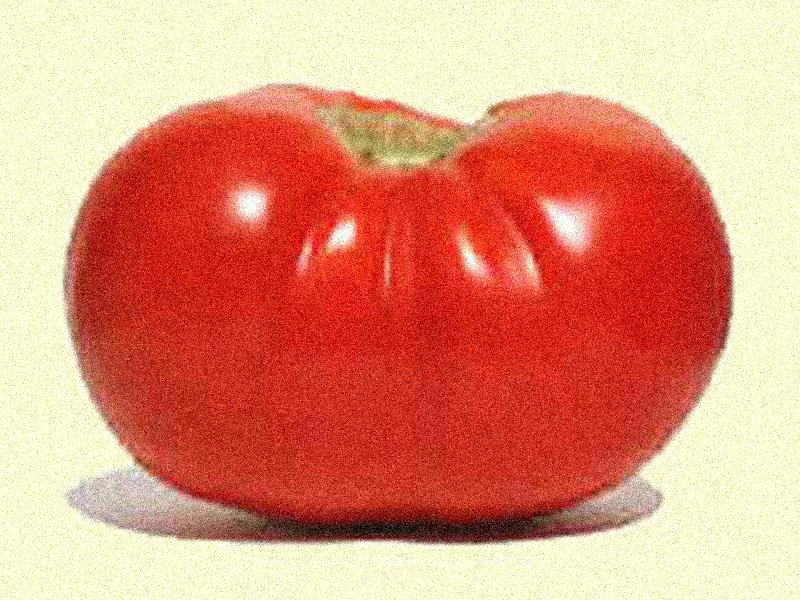Tomato: (67, 83, 733, 521)
